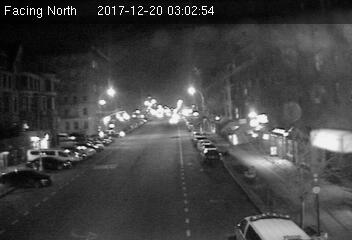police: (233, 209, 314, 240)
